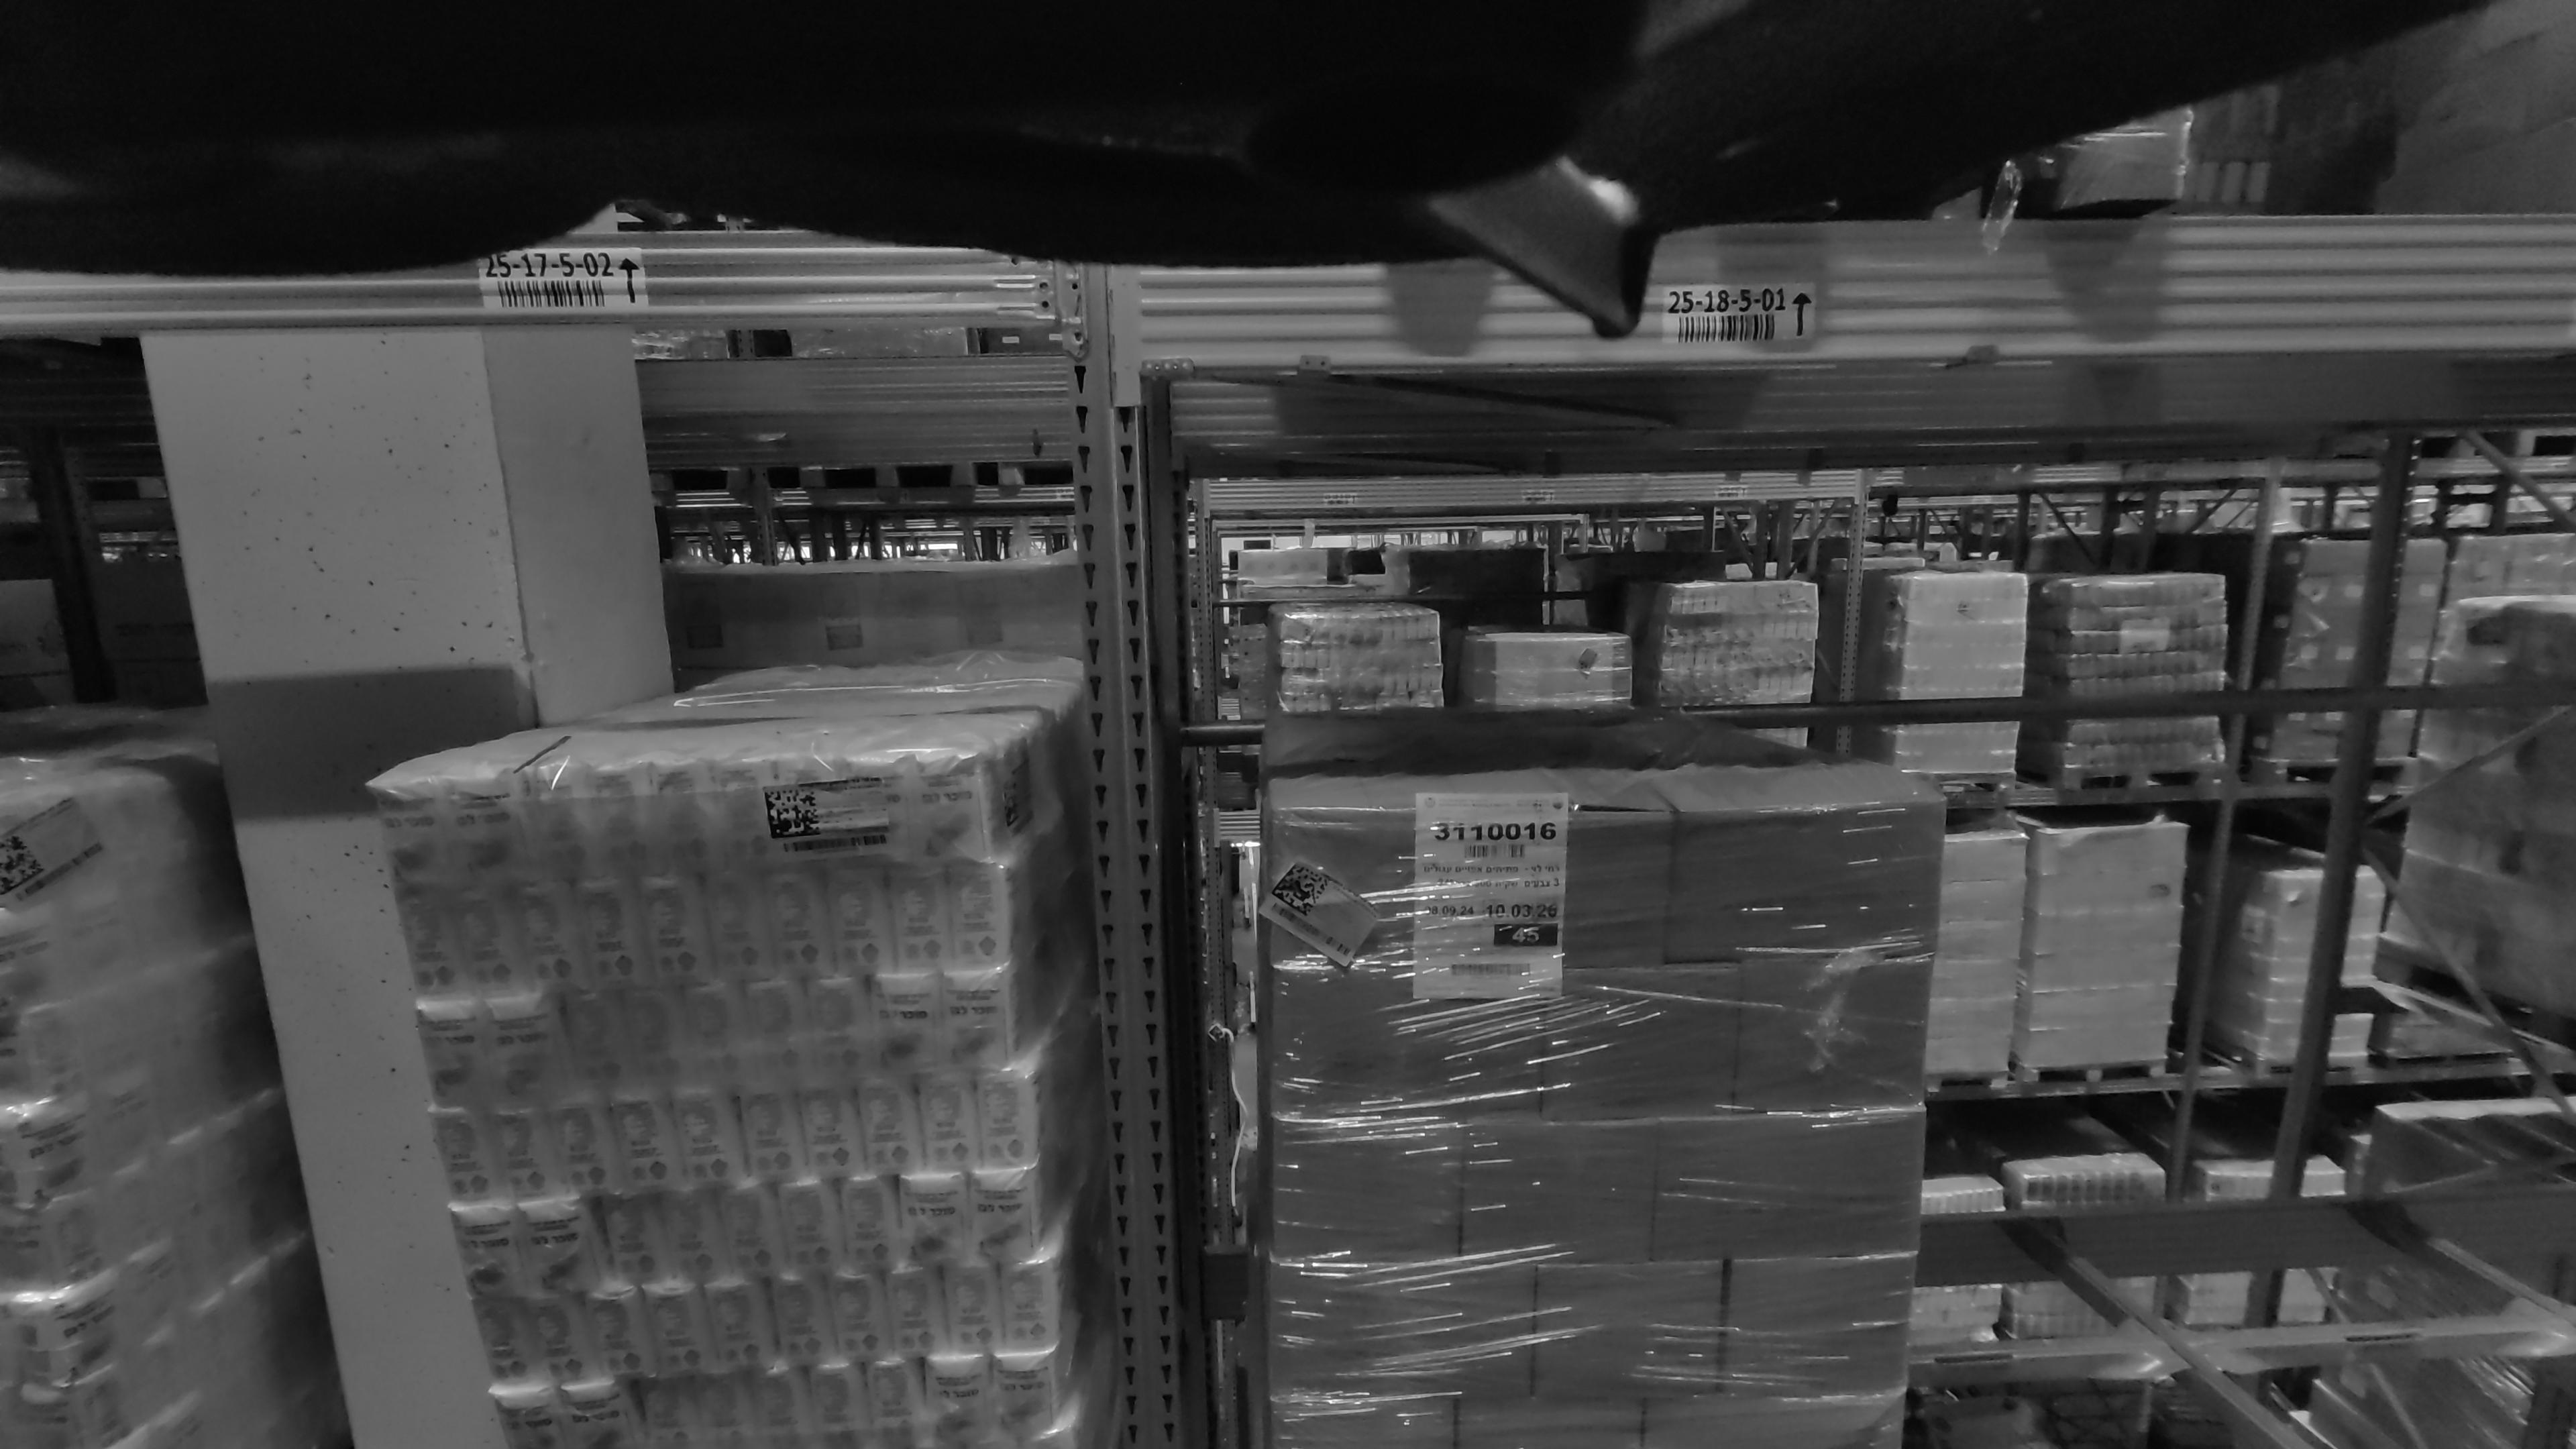empty-shelf: (2022, 375, 2571, 1449)
